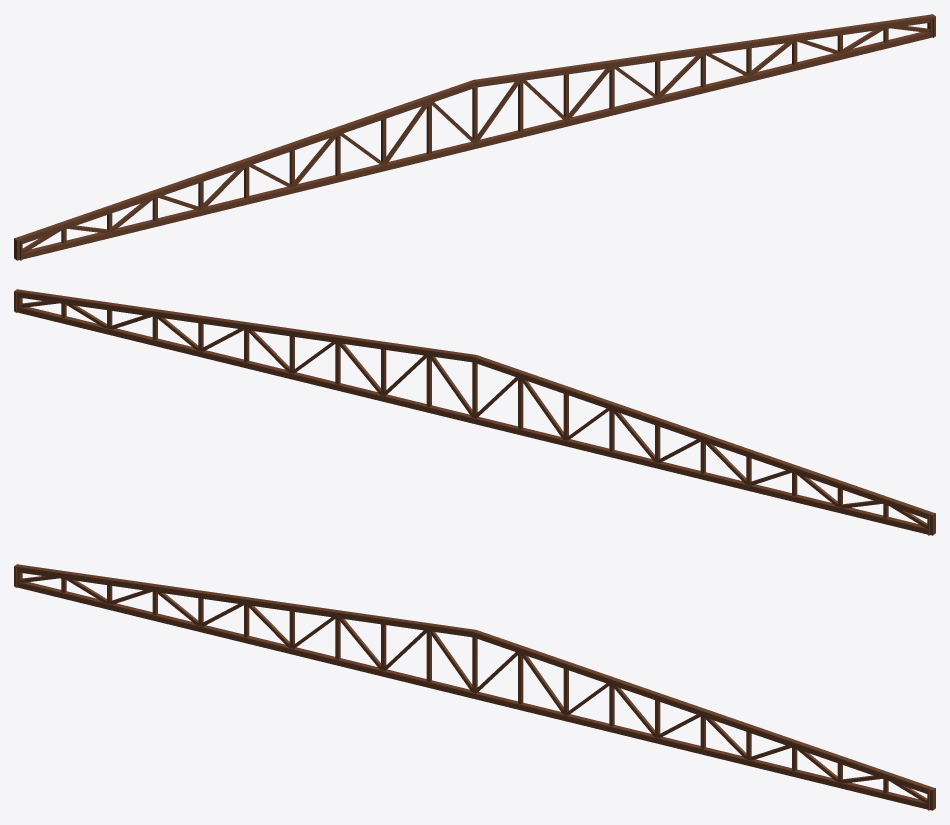
Rendered from roof_truss.glb.
The picture shows the model from 3 angles, top to bottom: view 1: azimuth 30°, elevation 25°; view 2: azimuth 150°, elevation 25°; view 3: azimuth 330°, elevation 25°; orthographic projection.
Parts seen in each view (by area): view 1: RoofTruss; view 2: RoofTruss; view 3: RoofTruss.
Part boxes in pixels (<box>): RoofTruss: <box>14,14,935,260</box>; RoofTruss: <box>14,289,935,535</box>; RoofTruss: <box>14,564,935,810</box>.
Size of the model in its own units: 30.18 by 2.09 by 0.32.
